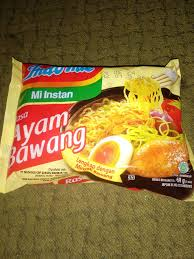Indomie Ayam Bawang (69g): (3, 55, 188, 198)
